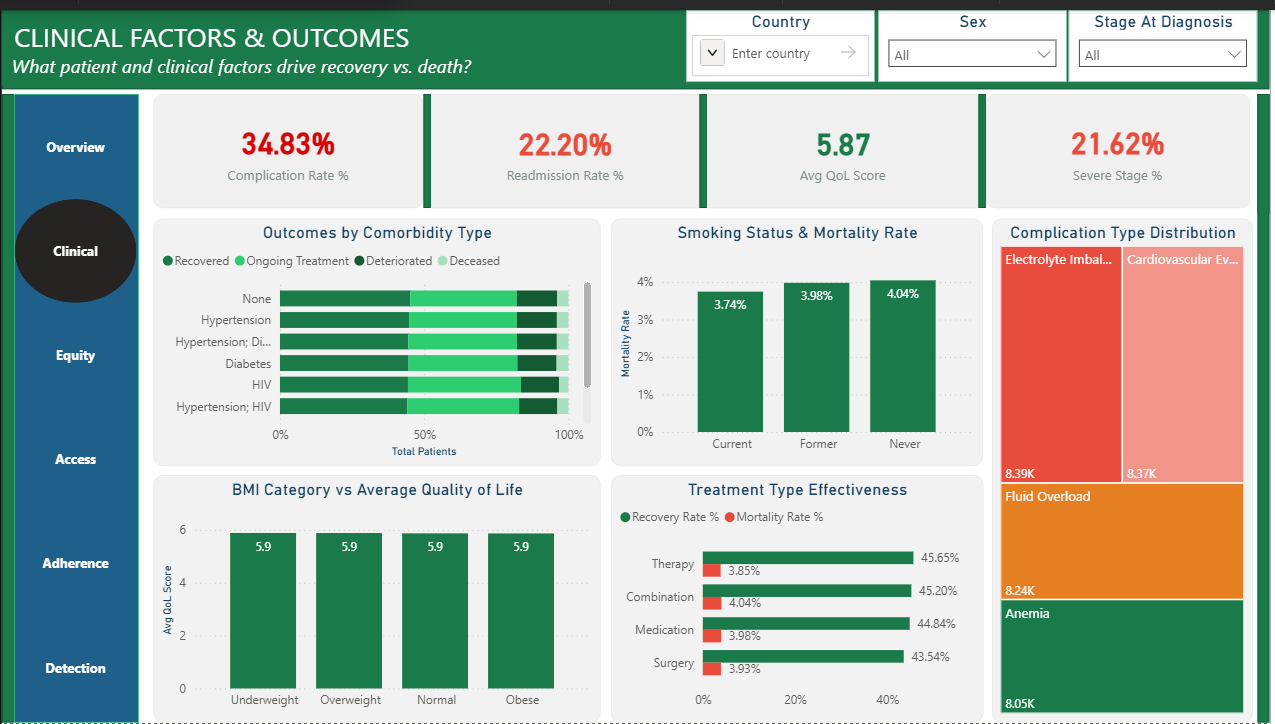

Layout of this report page (visuals, bound fields, positions):
{"tool":"powerbi","page":{"name":"Clinical","canvas":[1280,720],"ordinal":1},"visuals":[{"type":"clusteredColumnChart","title":"Smoking Status & Mortality Rate","fields":{"Category":["ckd_clean.smoking_status"],"Y":["Measures (2).Mortality Rate %"]},"box":[614.8,210.5,375.5,249.8],"z":0},{"type":"hundredPercentStackedBarChart","title":"Outcomes by Comorbidity Type","fields":{"Category":["ckd_clean.comorbidities"],"Y":["Measures (2).Total Patients"],"Series":["ckd_clean.Primary Outcome"]},"box":[153,210.5,451.2,249.8],"z":1000},{"type":"card","fields":{"Values":["Measures (2).Complication Rate %"]},"box":[152.9,84.8,272.6,115.1],"z":2000},{"type":"card","fields":{"Values":["Measures (2).Readmission Rate %"]},"box":[433.1,84.8,271,115.1],"z":3000},{"type":"card","fields":{"Values":["Measures (2).Avg QoL Score"]},"box":[711.7,84.8,274.1,115.1],"z":4000},{"type":"card","fields":{"Values":["Measures (2).Severe Stage %"]},"box":[993.3,84.8,266.5,115.1],"z":6000},{"type":"shape","box":[1268,84.9,12,120.9],"z":7000},{"type":"shape","box":[0,0,1279.4,80],"z":8000},{"type":"textbox","box":[0.6,3,1279.4,74],"z":9000},{"type":"textSlicer","title":"Country","fields":{"Values":["ckd_clean.country"]},"box":[690.9,0,190.8,72.7],"z":10000},{"type":"slicer","title":"Sex","fields":{"Values":["ckd_clean.sex"]},"box":[883.9,0,190.8,72.7],"z":11000},{"type":"slicer","title":"Stage At Diagnosis","fields":{"Values":["ckd_clean.disease_stage_at_diagnosis"]},"box":[1075.9,0,190.8,72.7],"z":12000},{"type":"shape","box":[1267.4,84.8,12.1,634.5],"z":13000},{"type":"shape","box":[0,84.8,12.1,634.5],"z":14000},{"type":"shape","box":[985.7,84.8,7.6,115.1],"z":15000},{"type":"shape","box":[704.1,84.8,7.6,115.1],"z":16000},{"type":"shape","box":[425.5,84.8,7.6,115.1],"z":17000},{"type":"clusteredBarChart","title":"Treatment Type Effectiveness","fields":{"Category":["ckd_clean.treatment_type"],"Y":["Measures (2).Recovery Rate %","Measures (2).Mortality Rate %"]},"box":[614.8,469.4,376,249.8],"z":18000},{"type":"treemap","title":"Complication Type Distribution","fields":{"Values":["Measures (2).Total Patients"],"Group":["ckd_clean.complication_type"]},"box":[1000,205.9,263,513.3],"z":19000},{"type":"clusteredColumnChart","title":"BMI Category vs Average Quality of Life","fields":{"Category":["ckd_clean.bmi_category"],"Y":["Measures (2).Avg QoL Score"]},"box":[152.9,469.4,451.2,249.8],"z":20000},{"type":"pageNavigator","box":[12.1,84.8,125.7,634.5],"z":21000}]}

Visuals, with their boxes in screenshot pixels (x1, y1, x2, y2), scaled from the page's 1280x720 canvas onto the 1275x724 screenshot:
"Smoking Status & Mortality Rate" clusteredColumnChart: [612, 212, 986, 463]
"Outcomes by Comorbidity Type" hundredPercentStackedBarChart: [152, 212, 602, 463]
card - Measures (2).Complication Rate %: [152, 85, 424, 201]
card - Measures (2).Readmission Rate %: [431, 85, 701, 201]
card - Measures (2).Avg QoL Score: [709, 85, 982, 201]
card - Measures (2).Severe Stage %: [989, 85, 1255, 201]
shape: [1263, 85, 1274, 207]
shape: [0, 0, 1274, 80]
textbox: [1, 3, 1274, 77]
"Country" textSlicer: [688, 0, 878, 73]
"Sex" slicer: [880, 0, 1071, 73]
"Stage At Diagnosis" slicer: [1072, 0, 1262, 73]
shape: [1262, 85, 1274, 723]
shape: [0, 85, 12, 723]
shape: [982, 85, 989, 201]
shape: [701, 85, 709, 201]
shape: [424, 85, 431, 201]
"Treatment Type Effectiveness" clusteredBarChart: [612, 472, 987, 723]
"Complication Type Distribution" treemap: [996, 207, 1258, 723]
"BMI Category vs Average Quality of Life" clusteredColumnChart: [152, 472, 602, 723]
pageNavigator: [12, 85, 137, 723]
